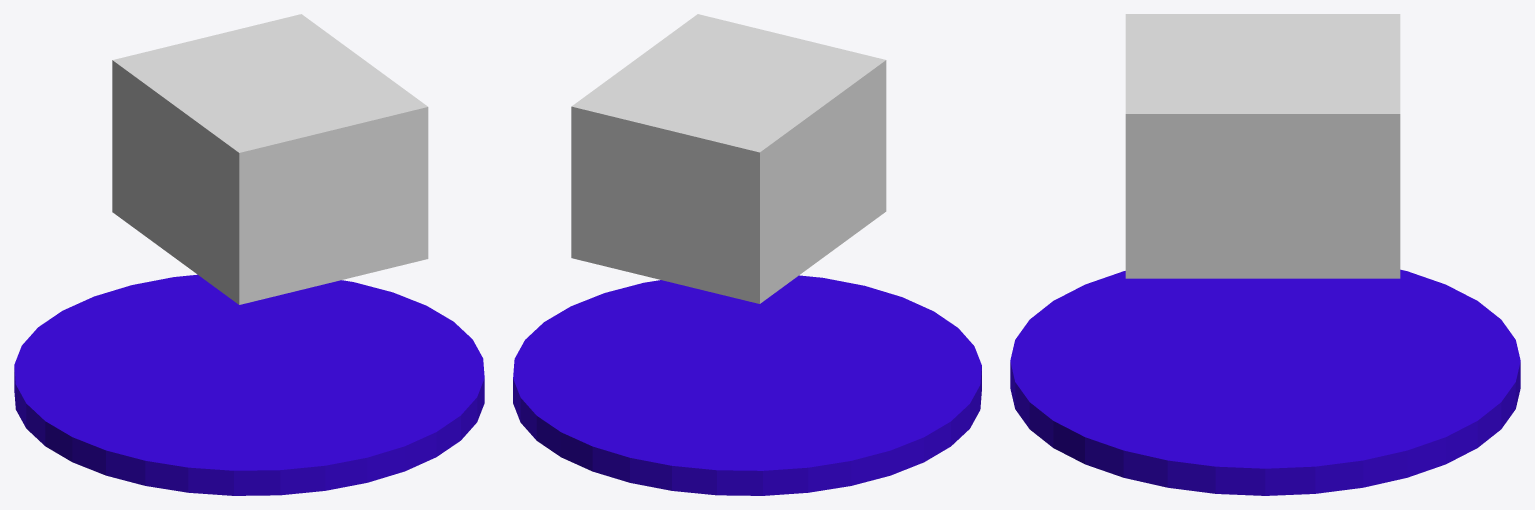
The model's file is cubesocle.glb.
The picture shows the model from 3 angles, left to right: view 1: azimuth 30°, elevation 25°; view 2: azimuth 150°, elevation 25°; view 3: azimuth 270°, elevation 25°; orthographic projection. The views are drawn at different scales.
Parts seen in each view (by area): view 1: Cylinder, Cube; view 2: Cylinder, Cube; view 3: Cylinder, Cube.
Boxes of the visible parts, <box> form: Cylinder: <box>14,274,484,495</box>; Cube: <box>112,14,428,304</box>; Cylinder: <box>513,275,981,495</box>; Cube: <box>571,14,886,303</box>; Cylinder: <box>1010,269,1520,495</box>; Cube: <box>1125,14,1400,278</box>.
Bounding box in the file's own units: 2 × 1.45 × 2.
